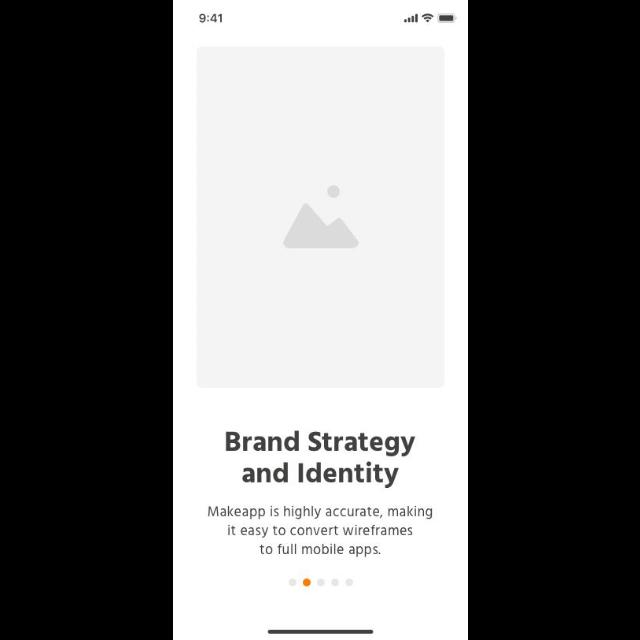image: (198, 47, 444, 389)
pageindicator: (288, 578, 354, 586)
text: (206, 504, 434, 558), (224, 431, 416, 489)
uppertaskbar: (199, 14, 457, 24)
